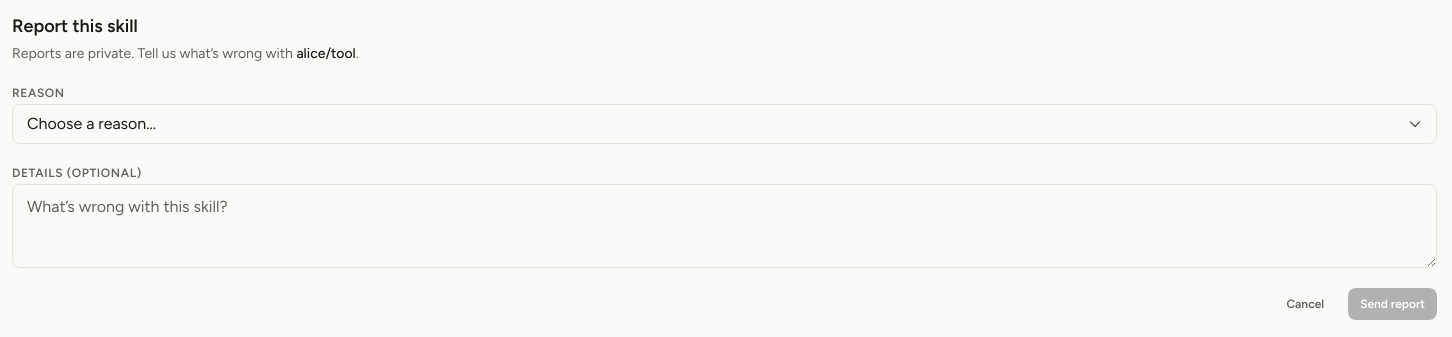
Scenario: ReportDialogForm › submits a safety report with the chosen category and reason
Select "Malicious or harmful code" in the dropdown. click: (724, 124)
box: top-left (12, 104), bottom-right (1437, 144)
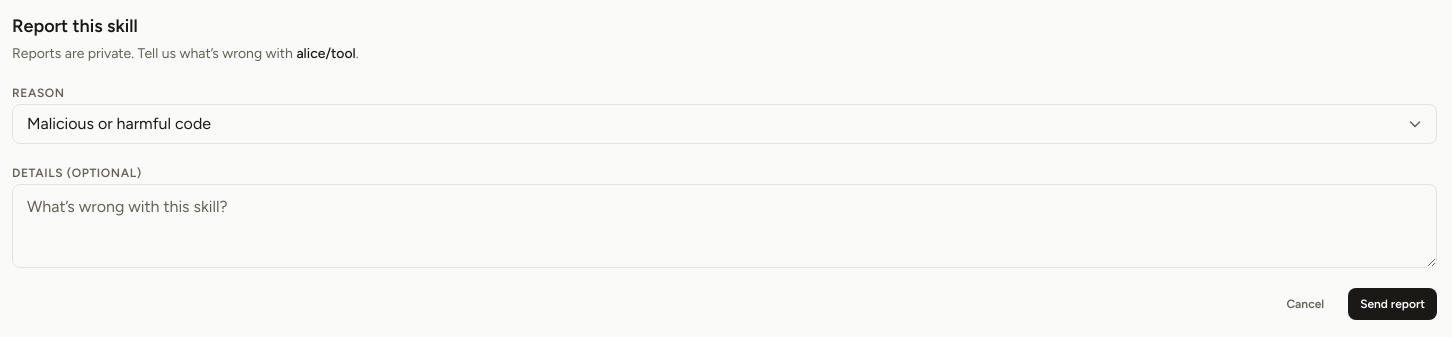
Type "ships a keylogger" into the text box with placeholder "What’s wrong with this skill?". click: (724, 226)
box: top-left (12, 184), bottom-right (1437, 268)
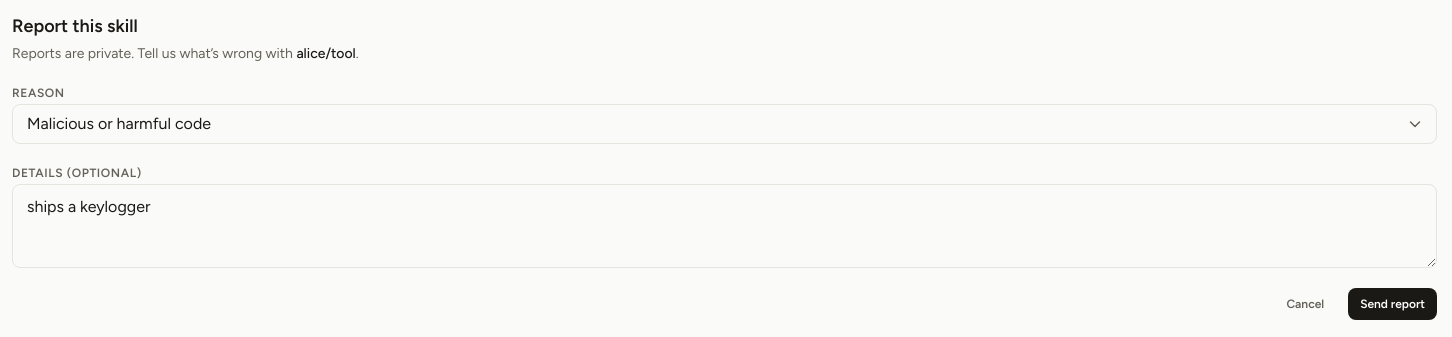
Click the button "Send report". click: (1393, 304)
box: top-left (1348, 288), bottom-right (1437, 320)
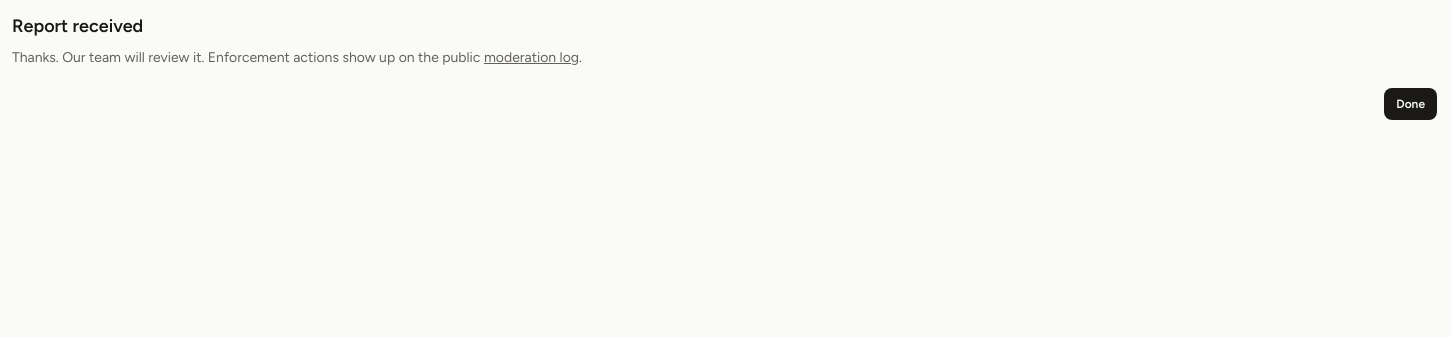
expect the heading "Report received" is shown: met, box top-left (12, 15), bottom-right (143, 37)
